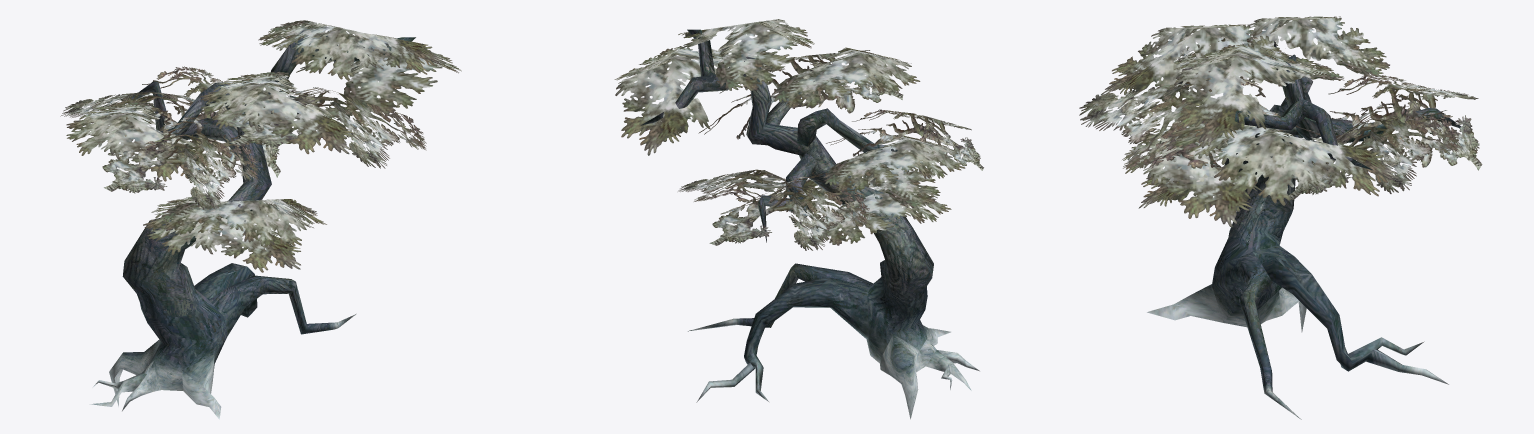
The model's file is environment_Tree_xuesong_002_a.FBX.
The picture shows the model from 3 angles, left to right: view 1: azimuth 30°, elevation 25°; view 2: azimuth 150°, elevation 25°; view 3: azimuth 270°, elevation 25°; orthographic projection. The views are drawn at different scales.
Parts seen in each view (by area): view 1: environment_Tree_xuesong_002_b, environment_Tree_xuesong_002_a; view 2: environment_Tree_xuesong_002_b, environment_Tree_xuesong_002_a; view 3: environment_Tree_xuesong_002_b, environment_Tree_xuesong_002_a.
Boxes of the visible parts, bbox=[...] form: environment_Tree_xuesong_002_b: bbox=[60, 20, 461, 272]; environment_Tree_xuesong_002_a: bbox=[89, 30, 415, 419]; environment_Tree_xuesong_002_b: bbox=[614, 19, 983, 250]; environment_Tree_xuesong_002_a: bbox=[641, 29, 979, 419]; environment_Tree_xuesong_002_b: bbox=[1079, 16, 1482, 227]; environment_Tree_xuesong_002_a: bbox=[1147, 41, 1461, 419].
Bounding box in the file's own units: 973 × 742 × 831.
Materials: 2 (2 with a texture image).
